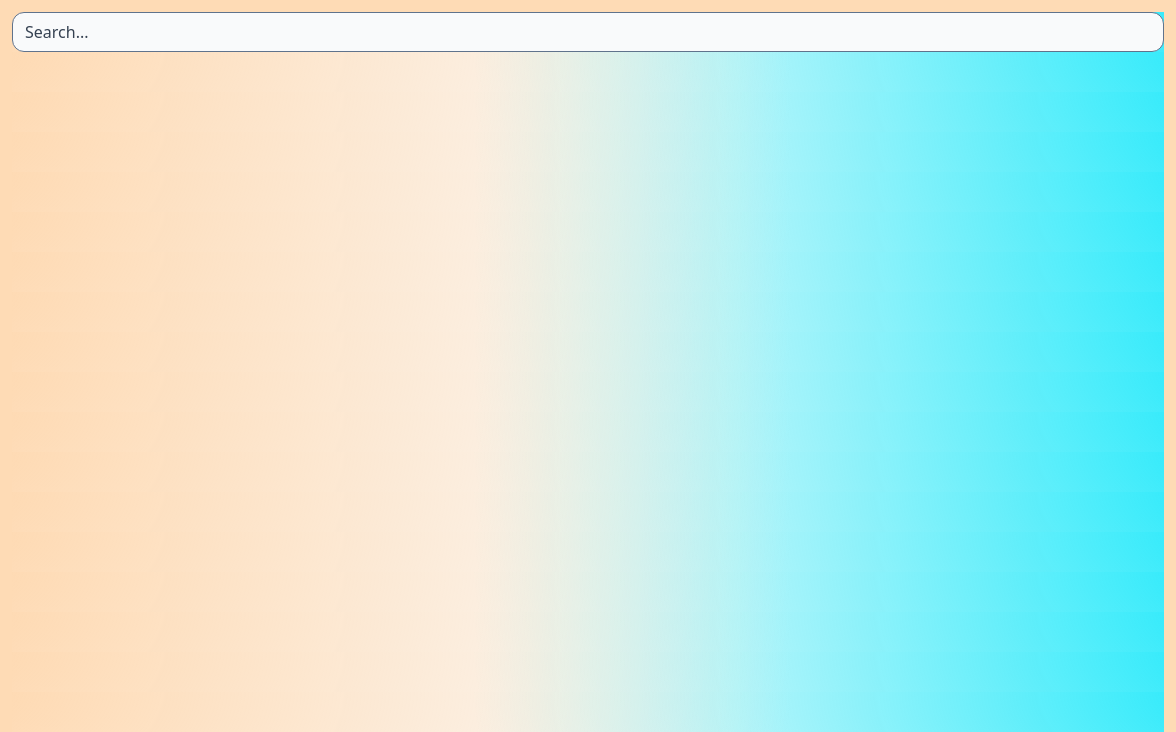
it: Combobox › ARIA structure (D11) › options are direct children of the listbox, without listitem wrappers
The width and height of the screenshot is (1176, 732).
Click the dropdown named "Country": (588, 32) [12,12,1164,52]
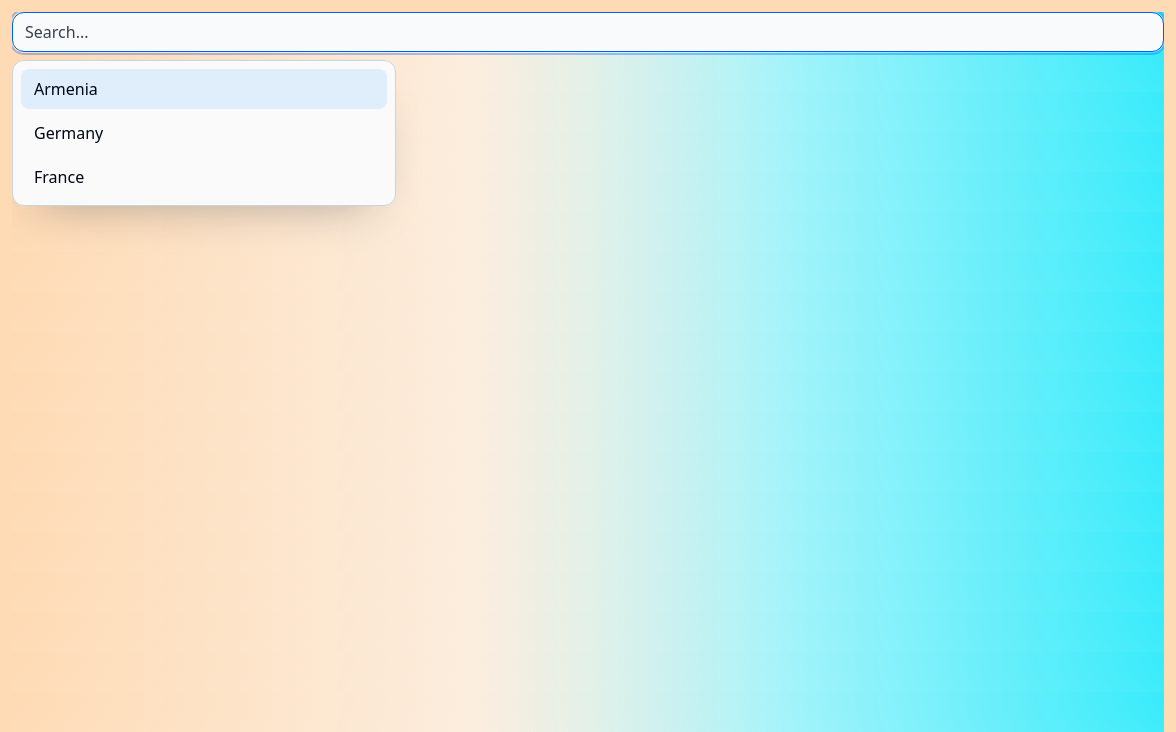
Result: the number of options is 3 at [21,69,387,109]; [21,113,387,153]; [21,157,387,197]
